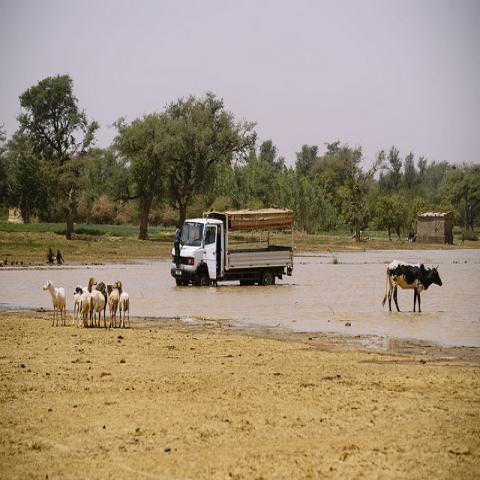truck: (172, 208, 294, 286)
